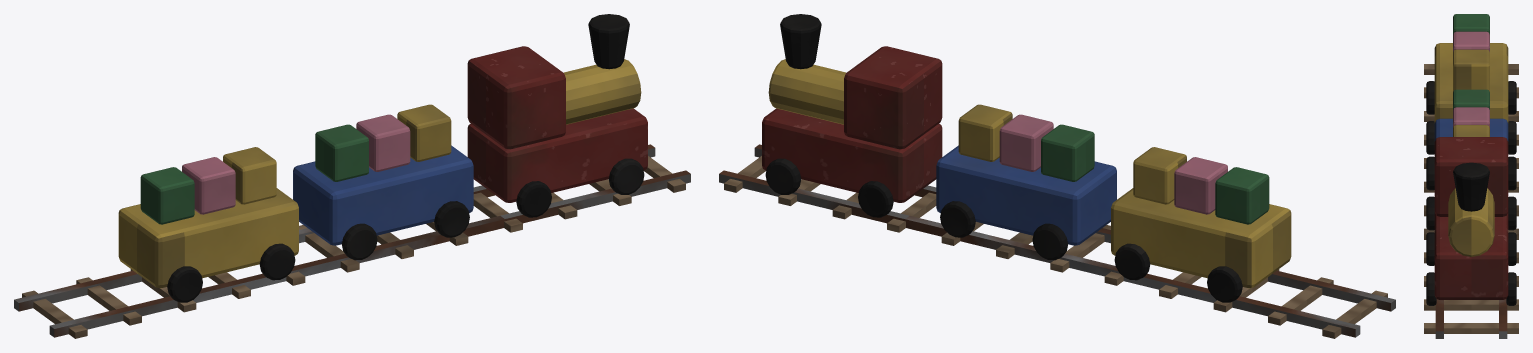
The model's file is T04_toy_train_set.glb.
3 views of the same model, side by side, from view 1: azimuth 30°, elevation 25°; view 2: azimuth 150°, elevation 25°; view 3: azimuth 270°, elevation 25° (orthographic). The views are drawn at different scales.
Visible parts, largest first — view 1: T04_toy_train_set; view 2: T04_toy_train_set; view 3: T04_toy_train_set.
Boxes of the visible parts, left/top/right/bottom form: T04_toy_train_set: left=14, top=14, right=690, bottom=338; T04_toy_train_set: left=719, top=14, right=1395, bottom=338; T04_toy_train_set: left=1424, top=14, right=1518, bottom=338.
Size of the model in its own units: 0.6 by 0.1452 by 0.0871.
Materials: 8 (8 with a texture image).
